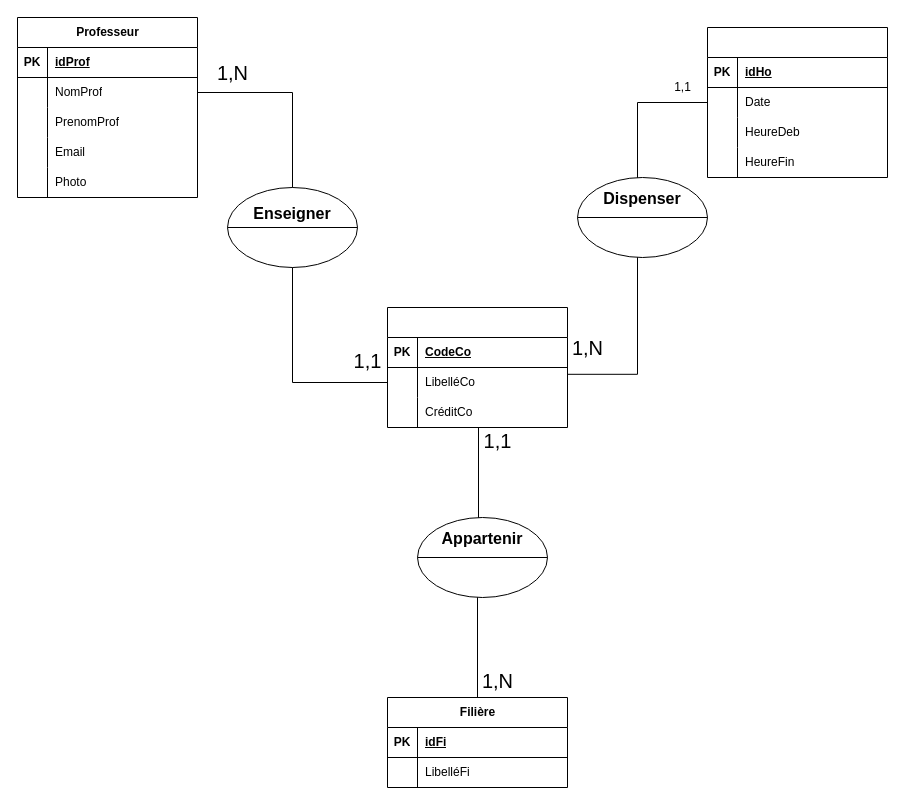
Image size: 905x805. Some labels were removed from this diagram. The box of each missing label's shape, as (x1, y1, x2, y2) in pixels:
Cours: (386, 306, 568, 428)
Honoraire: (706, 26, 888, 178)
